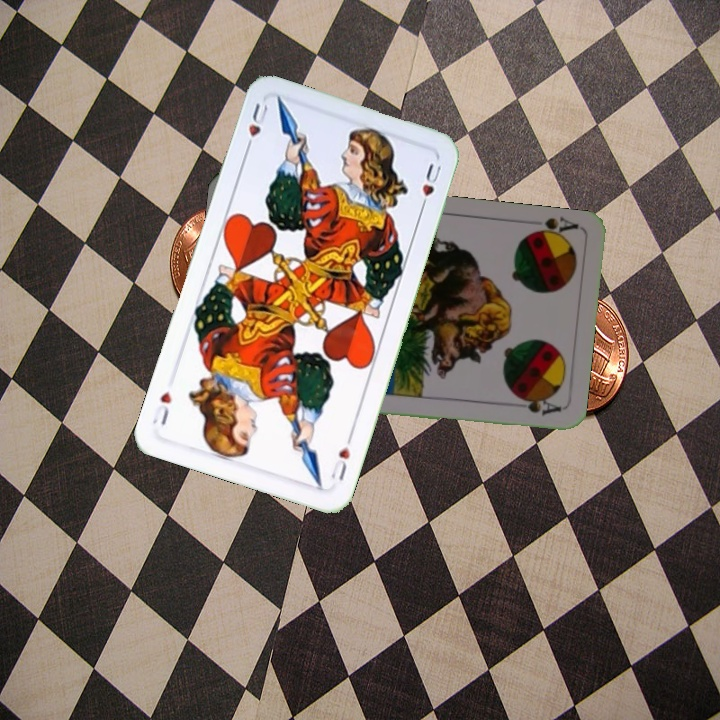HU: (241, 99, 271, 155), (326, 431, 355, 483)
SA: (520, 213, 580, 243)
